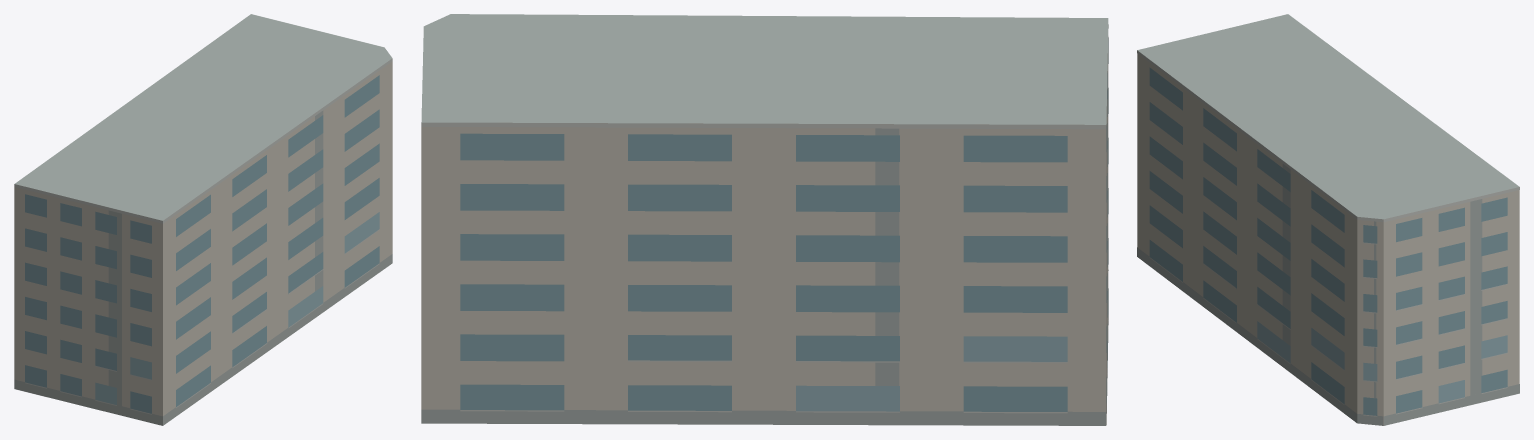
Rendered from survey-upis-32712009.glb.
The picture shows the model from 3 angles, left to right: view 1: azimuth 30°, elevation 25°; view 2: azimuth 150°, elevation 25°; view 3: azimuth 270°, elevation 25°; orthographic projection. The views are drawn at different scales.
Parts seen in each view (by area): view 1: survey-upis-32712009.tmp; view 2: survey-upis-32712009.tmp; view 3: survey-upis-32712009.tmp.
Boxes of the visible parts, box(x1,y1,x2,y2) form: survey-upis-32712009.tmp: box(14, 14, 392, 425); survey-upis-32712009.tmp: box(421, 14, 1108, 425); survey-upis-32712009.tmp: box(1137, 14, 1519, 425).
Bounding box in the file's own units: 35.6 × 16.7 × 28.04.
